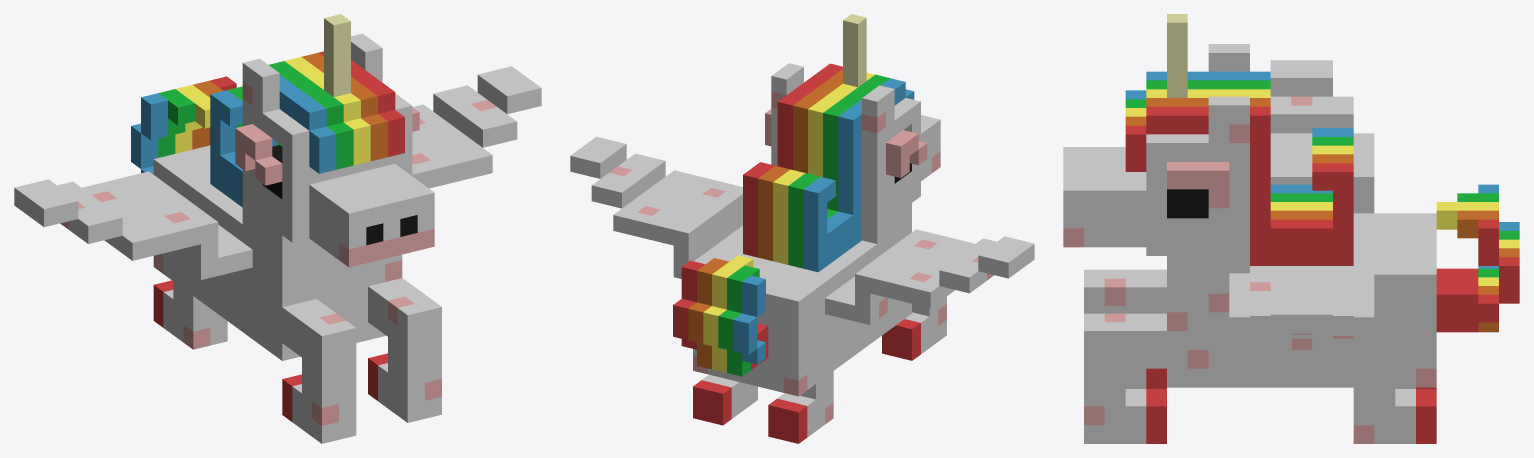
The model's file is lv25 unicorn.fbx.
The picture shows the model from 3 angles, left to right: view 1: azimuth 30°, elevation 25°; view 2: azimuth 150°, elevation 25°; view 3: azimuth 270°, elevation 25°; orthographic projection. The views are drawn at different scales.
Parts seen in each view (by area): view 1: polySurface7863, polySurface7897, polySurface7917, polySurface7969, polySurface8668, polySurface7881, polySurface8012, polySurface8169, polySurface8259, polySurface8011, polySurface8255, polySurface8677 (+27 smaller); view 2: polySurface8414, polySurface7945, polySurface8218, polySurface8374, polySurface8675, polySurface8014, polySurface8263, polySurface8669, polySurface8577, polySurface8655, polySurface7936, polySurface8278 (+6 smaller); view 3: polySurface7901, polySurface7984, polySurface8168, polySurface8340, polySurface7969, polySurface8179, polySurface8442, polySurface8654, polySurface7898, polySurface7961, polySurface8021, polySurface8119 (+50 smaller).
Boxes of the visible parts, <box> form: polySurface7863: <box>282,123,309,152</box>; polySurface7897: <box>309,126,336,155</box>; polySurface7917: <box>397,304,424,332</box>; polySurface7969: <box>355,41,382,69</box>; polySurface8668: <box>34,198,61,227</box>; polySurface7881: <box>299,101,326,130</box>; polySurface8012: <box>255,156,282,185</box>; polySurface8169: <box>122,231,149,260</box>; polySurface8259: <box>497,85,524,114</box>; polySurface8011: <box>245,131,272,160</box>; polySurface8255: <box>339,202,366,231</box>; polySurface8677: <box>78,215,105,243</box>; polySurface8414: <box>783,402,807,427</box>; polySurface7945: <box>803,183,827,208</box>; polySurface8218: <box>673,223,697,249</box>; polySurface8374: <box>783,291,807,317</box>; polySurface8675: <box>954,267,978,293</box>; polySurface8014: <box>771,69,795,95</box>; polySurface8263: <box>585,153,609,178</box>; polySurface8669: <box>993,252,1017,278</box>; polySurface8577: <box>733,313,757,339</box>; polySurface8655: <box>915,282,939,307</box>; polySurface7936: <box>838,110,861,135</box>; polySurface8278: <box>862,92,885,117</box>; polySurface7901: <box>1187,106,1208,134</box>; polySurface7984: <box>1291,219,1312,247</box>; polySurface8168: <box>1270,105,1291,133</box>; polySurface8340: <box>1457,210,1478,238</box>; polySurface7969: <box>1208,96,1229,124</box>; polySurface8179: <box>1125,397,1146,425</box>; polySurface8442: <box>1270,219,1291,247</box>; polySurface8654: <box>1291,105,1312,133</box>; polySurface7898: <box>1125,182,1146,209</box>; polySurface7961: <box>1104,182,1125,209</box>; polySurface8021: <box>1104,322,1125,349</box>; polySurface8119: <box>1187,134,1208,161</box>.
Size of the model in its own units: 29 by 21 by 22.
